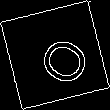O_NW: (22, 23, 88, 87)
